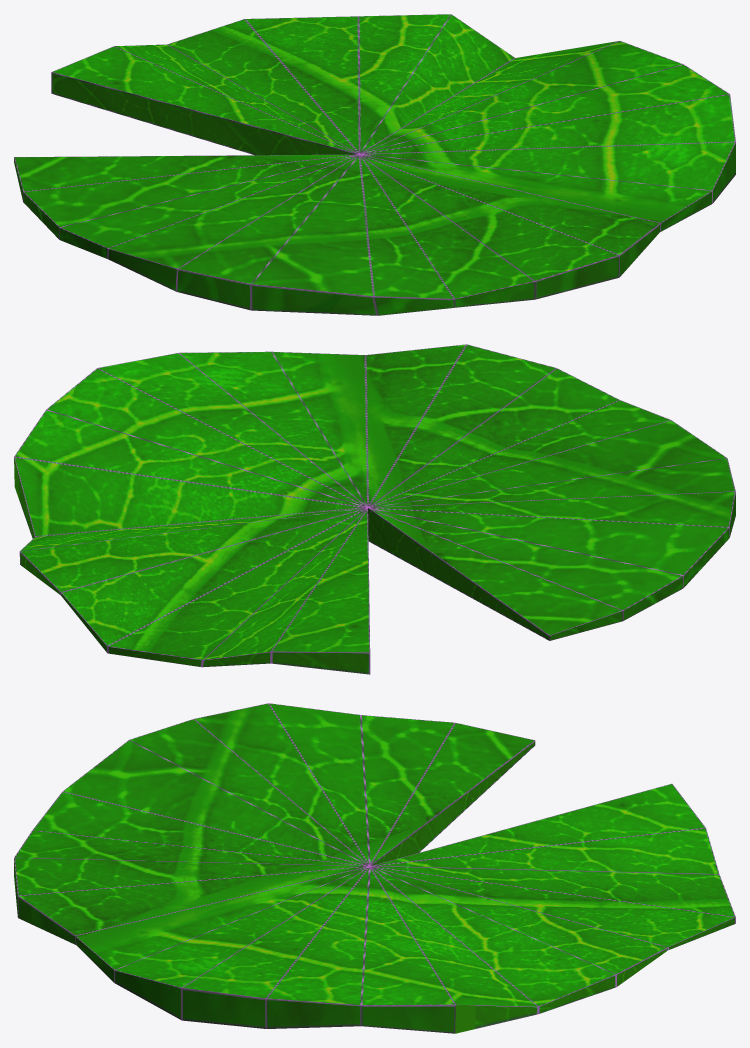
The model's file is lily_pad.fbx.
3 renders of one model, top to bottom at view 1: azimuth 30°, elevation 25°; view 2: azimuth 150°, elevation 25°; view 3: azimuth 270°, elevation 25°, orthographic. The views are drawn at different scales.
Visible parts, largest first — view 1: pCylinder1; view 2: pCylinder1; view 3: pCylinder1.
Part boxes in pixels (left/top/right/bottom): pCylinder1: left=14, top=14, right=735, bottom=315; pCylinder1: left=14, top=344, right=735, bottom=674; pCylinder1: left=14, top=703, right=735, bottom=1033.
Size of the model in its own units: 101 by 8.28 by 102.
1 material, 1 textured.
